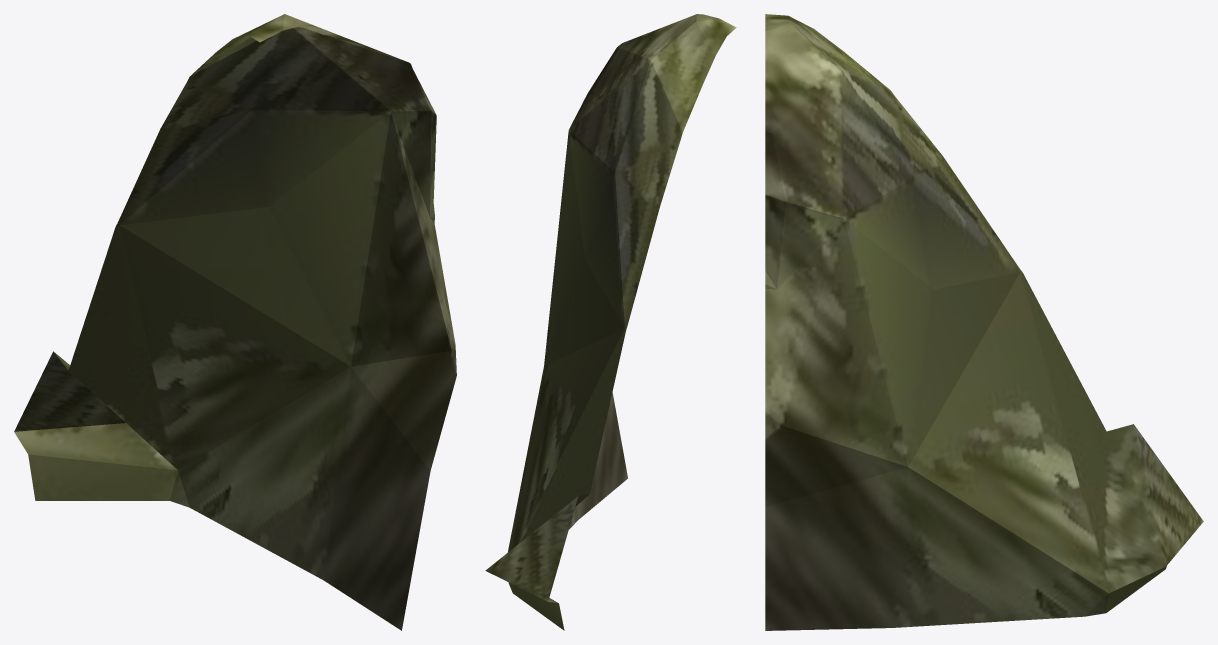
The picture shows the model from 3 angles, left to right: view 1: azimuth 30°, elevation 25°; view 2: azimuth 150°, elevation 25°; view 3: azimuth 270°, elevation 25°; orthographic projection. The views are drawn at different scales.
Bounding box in the file's own units: 0.6274 × 1.89 × 1.33.
Materials: 1 (1 with a texture image).
